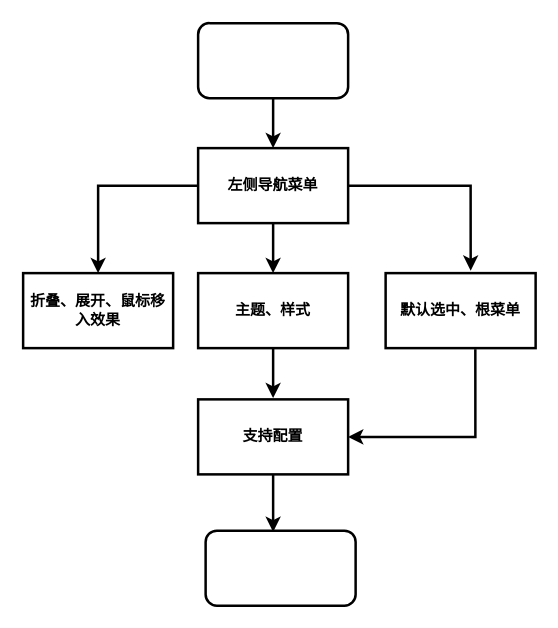
This 558x628 diagram has some shape labels left out. Here are the shapes that lost their labels. From the top down, the box of each, then its label:
(196, 21, 349, 99): 开始
(204, 529, 356, 606): 结束
